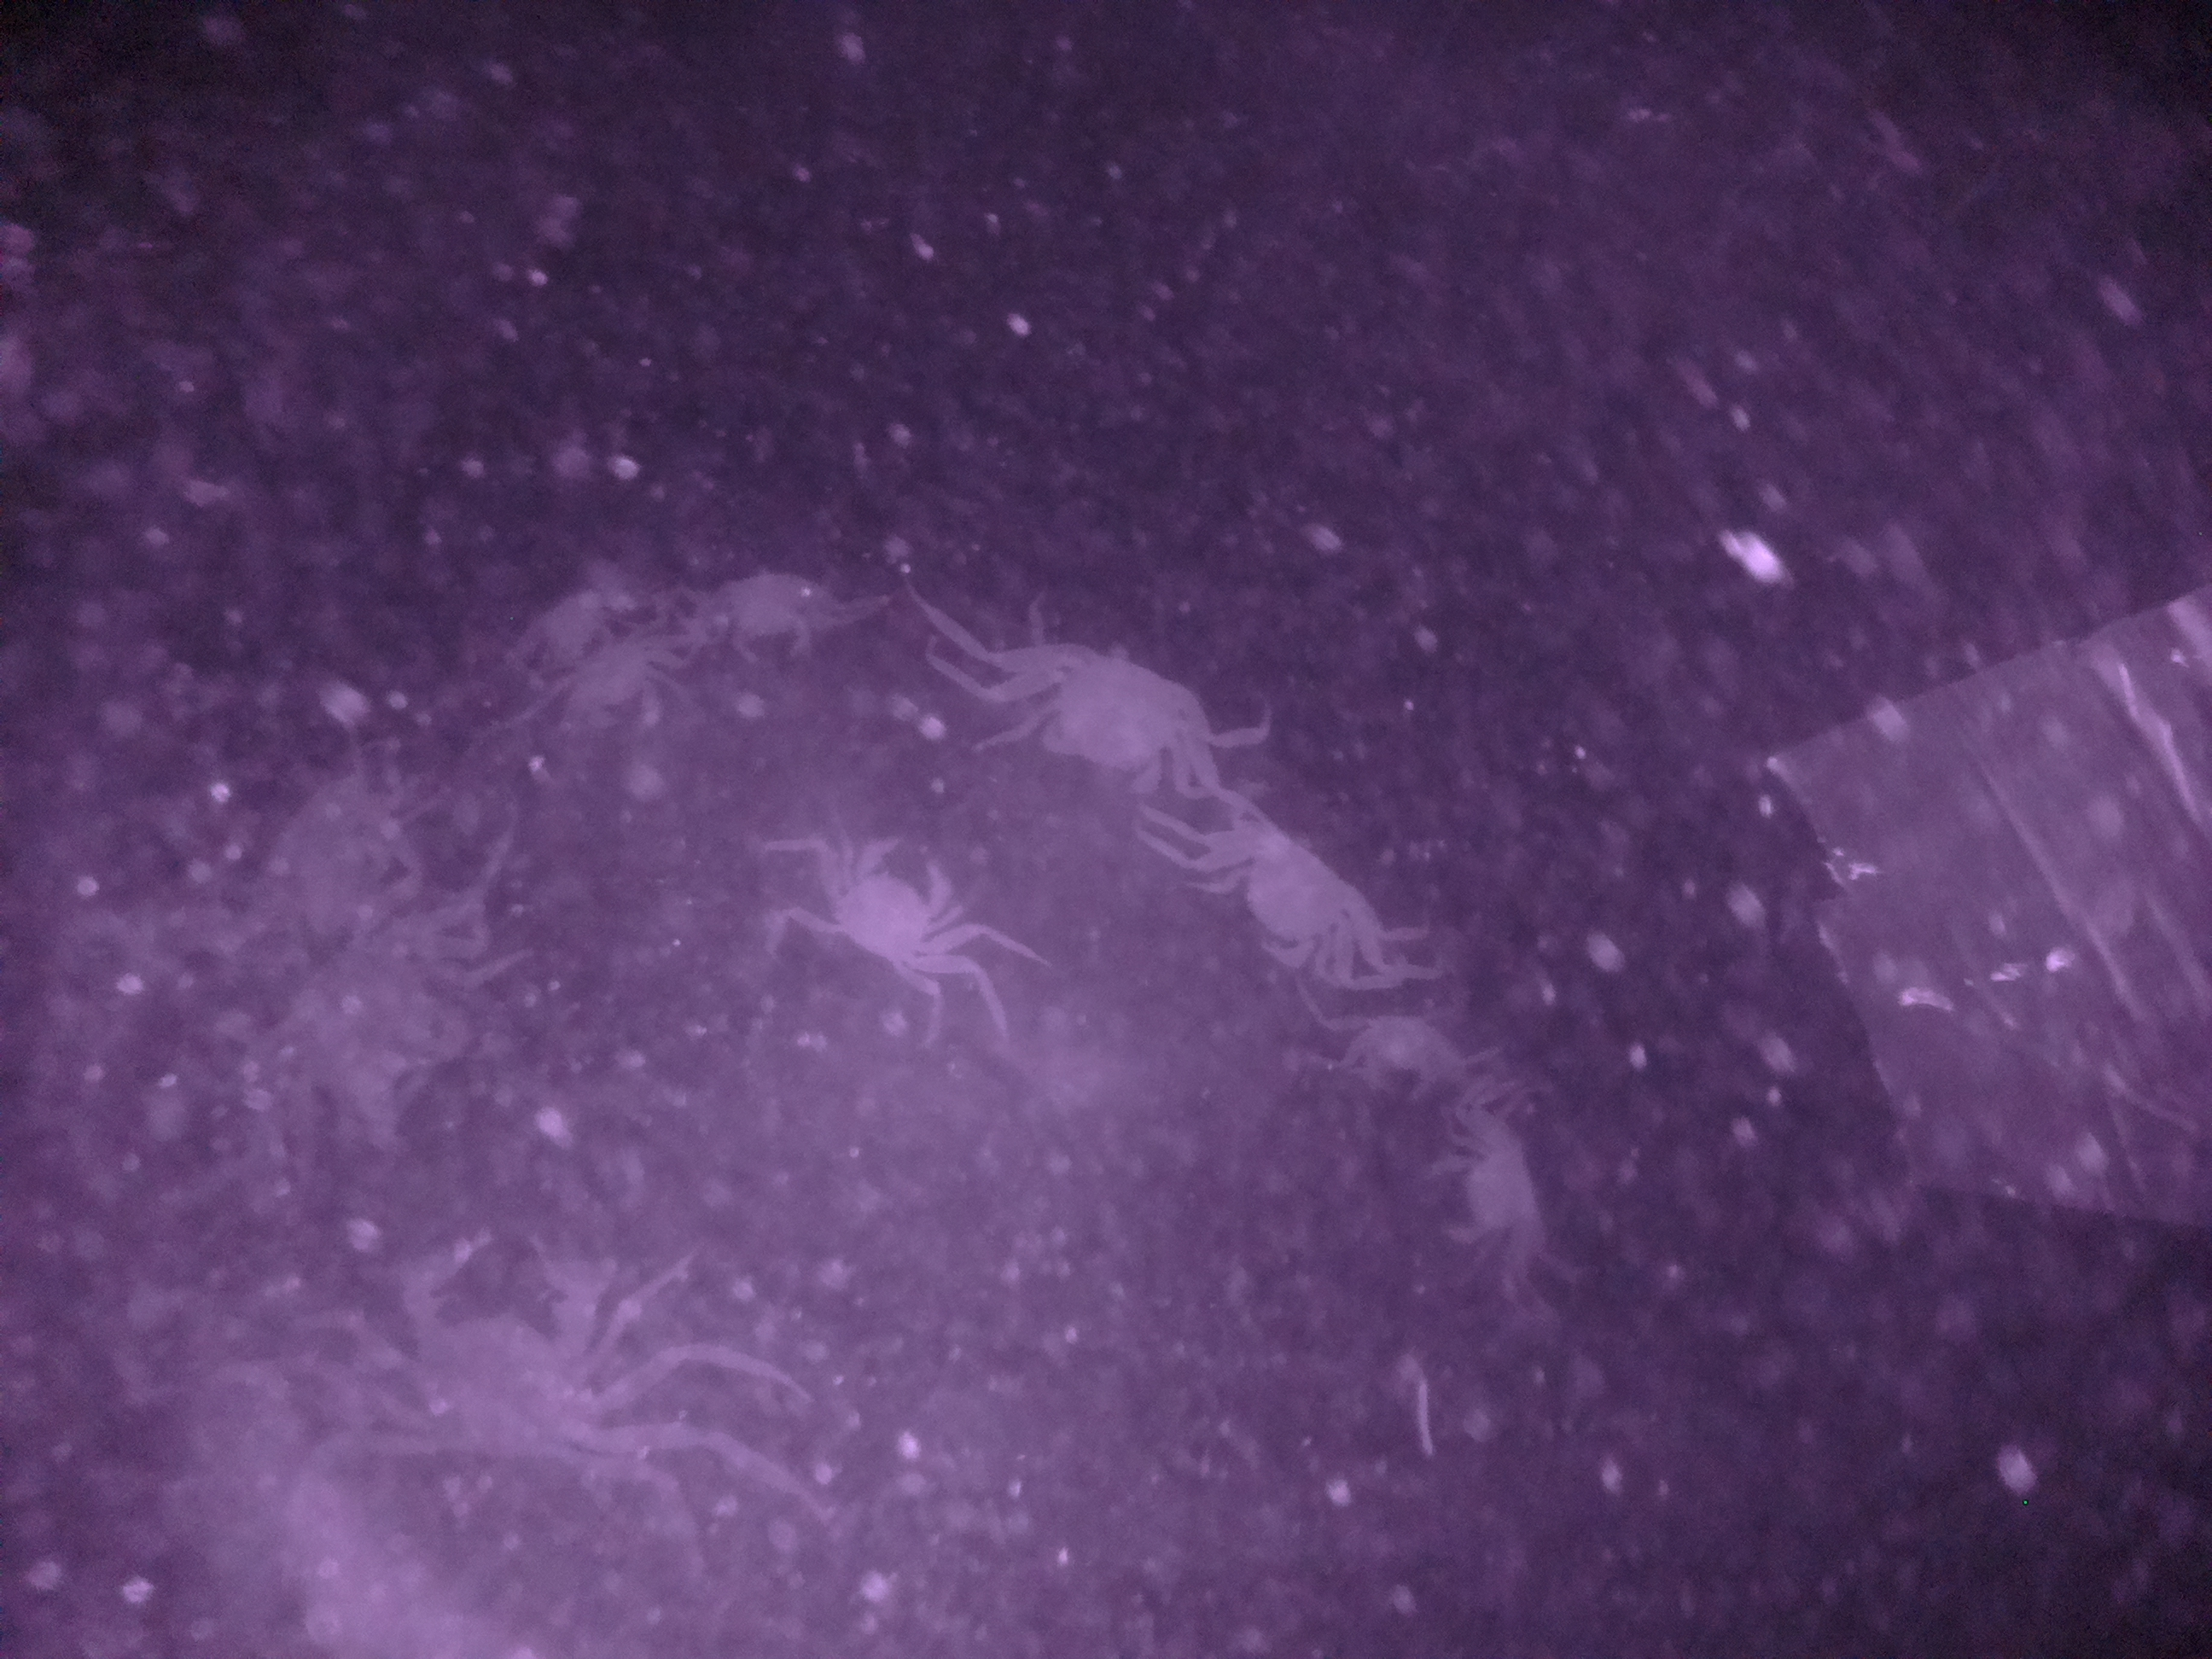Crab: (989, 627, 1228, 777), (1195, 800, 1393, 965), (817, 823, 991, 993), (1437, 1100, 1562, 1272)
